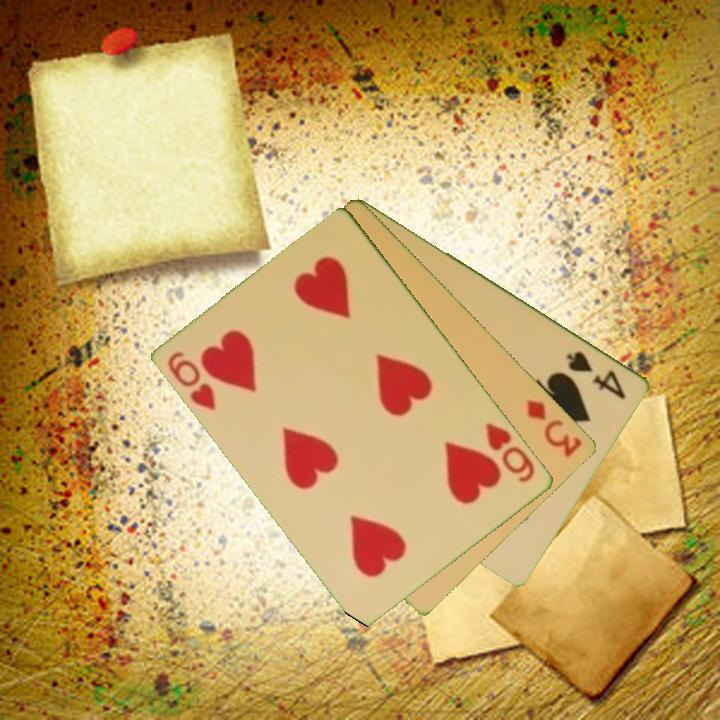3d: (523, 396, 586, 460)
4s: (563, 347, 630, 403)
6h: (482, 419, 539, 486), (165, 348, 220, 413)
